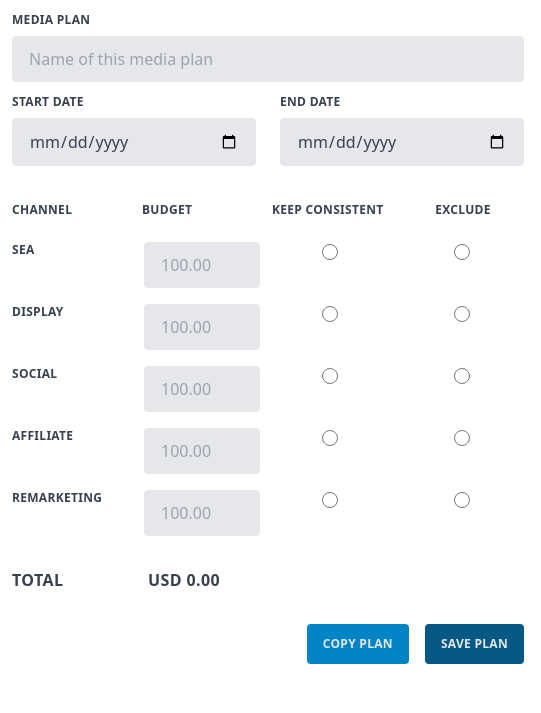
Test: Media Plan › requires USD formatted input
Type "abc" into the field with test id "SEA-budget".
click(202, 265); type("abc")  # box [144,242,260,288]
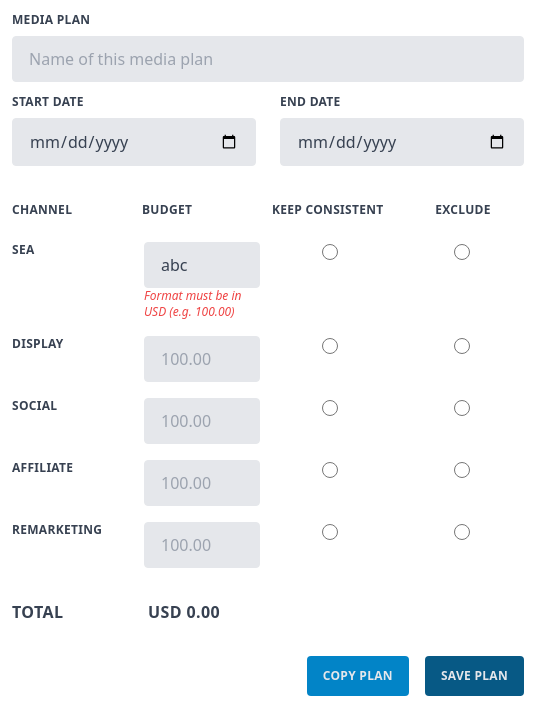
Expected: the text with test id "total-budget" reads "0.00", [186,601,220,623]
Expected: the text "Format must be in USD (e.g. 100.00)" is shown, [144,287,242,320]
